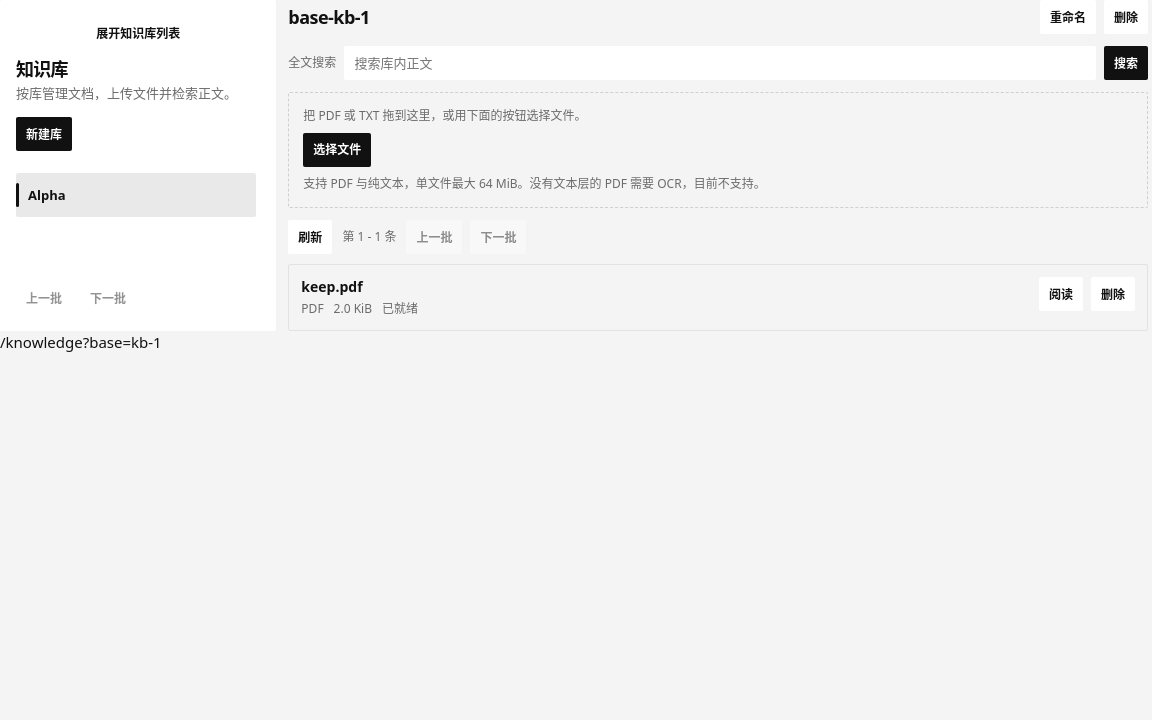
Test: KnowledgePage › keeps a document when its deletion fails
Check: the button "keep.pdf" is shown, box 301,277 -> 418,296
Click the button "删除" in the row of "2.0 KiB".
click(1113, 294)  # box 1091,277 -> 1135,311
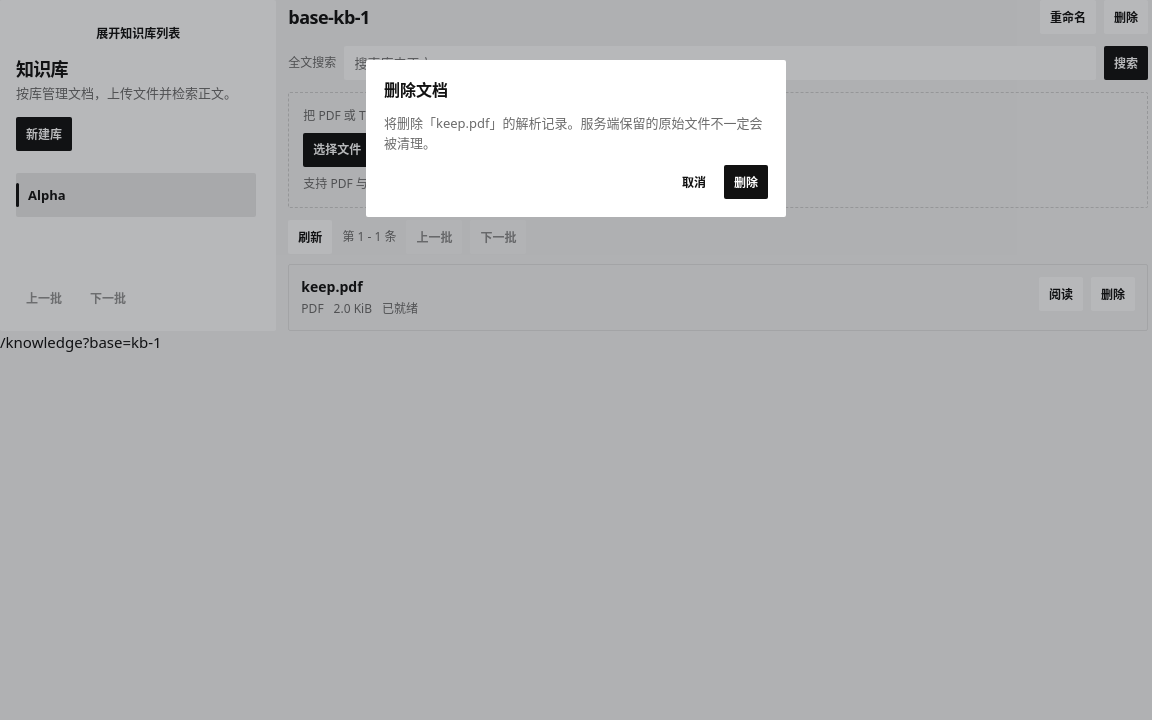
Check: the element with class "confirm-modal" is shown, box 366,60 -> 786,217
Click the button "删除".
click(746, 182)  # box 724,165 -> 768,199
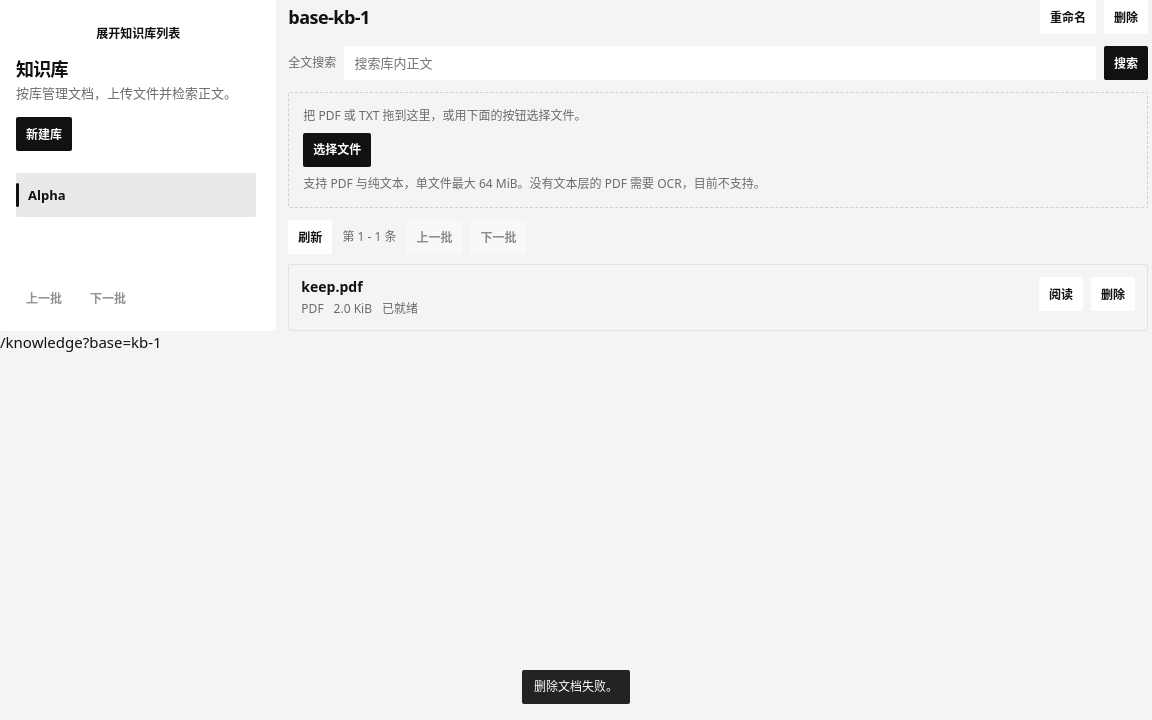
Check: the button "keep.pdf" is shown, box 301,277 -> 418,296
Check: the text "删除文档失败。" is shown, box 522,670 -> 630,704
